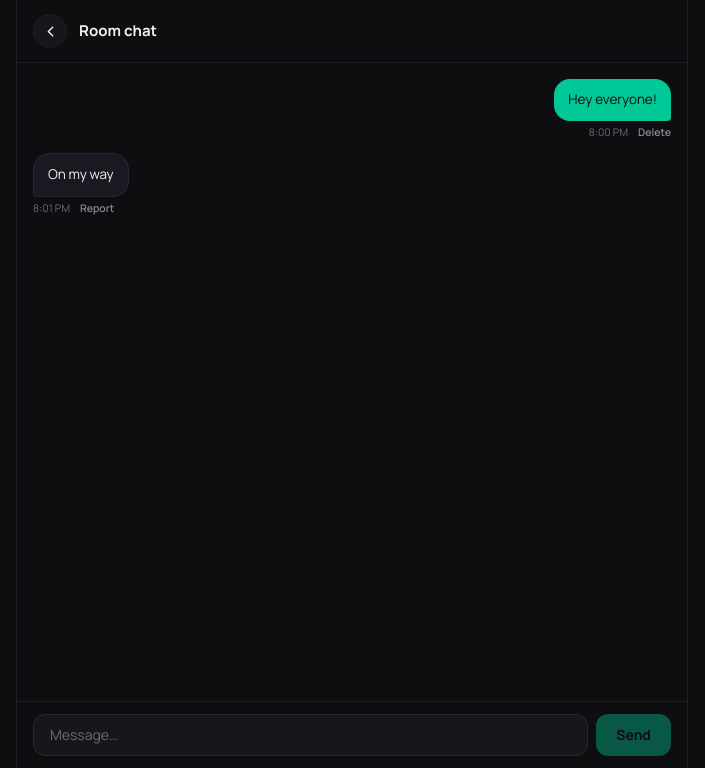
Scenario: RoomChat › shows an error and keeps the draft when sending fails
Type "oops" into the field labelled "Message…".
click(311, 735); type("oops")  # box [33,714,588,756]
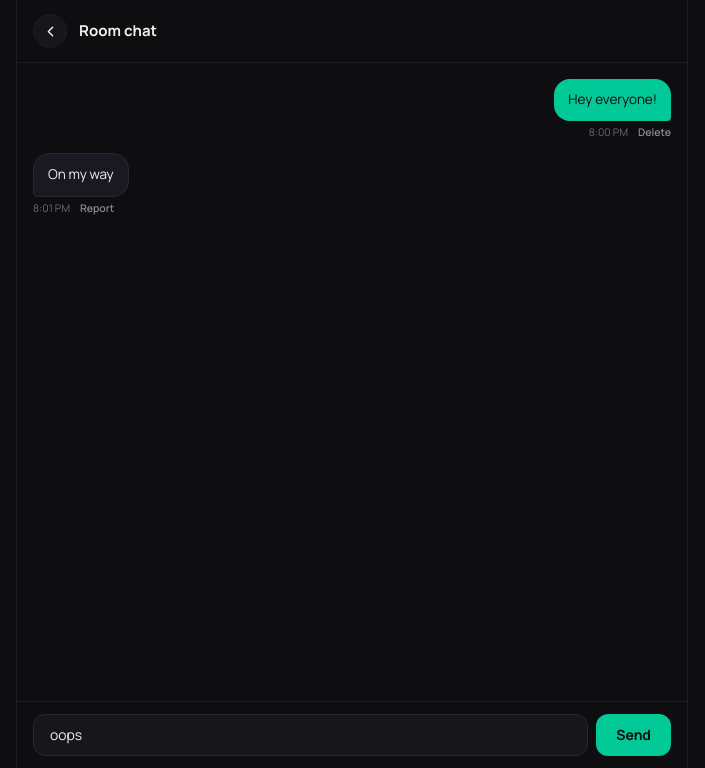
Click the button "Send".
click(634, 735)  # box [596,714,671,756]
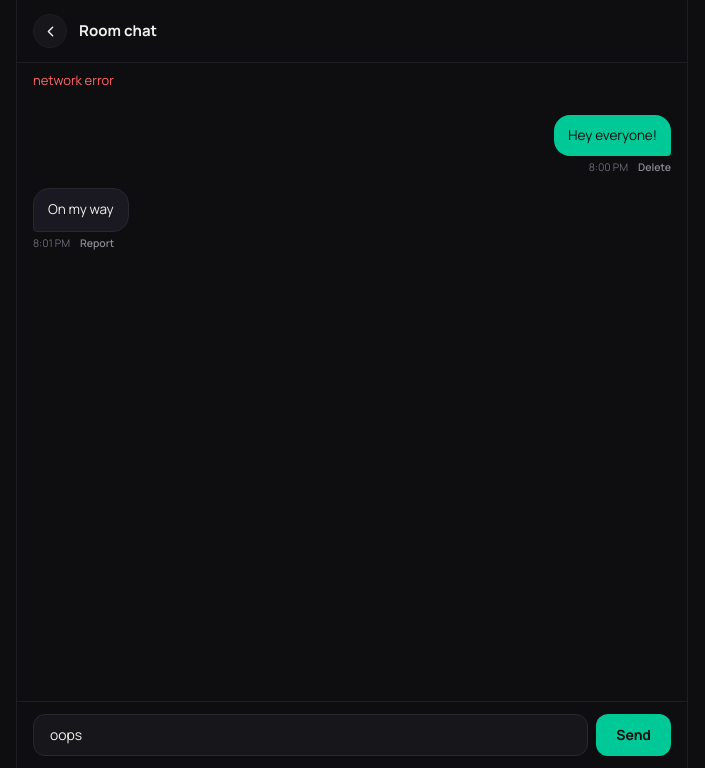
Expected: the message reads "network error", [33,71,114,89]
